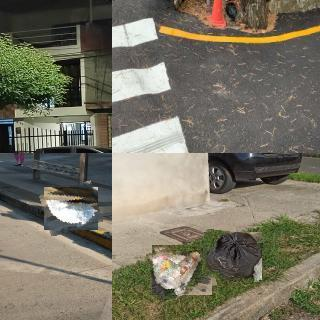Garbage: (149, 241, 215, 299), (203, 231, 263, 282), (42, 184, 101, 233), (225, 1, 241, 27)
